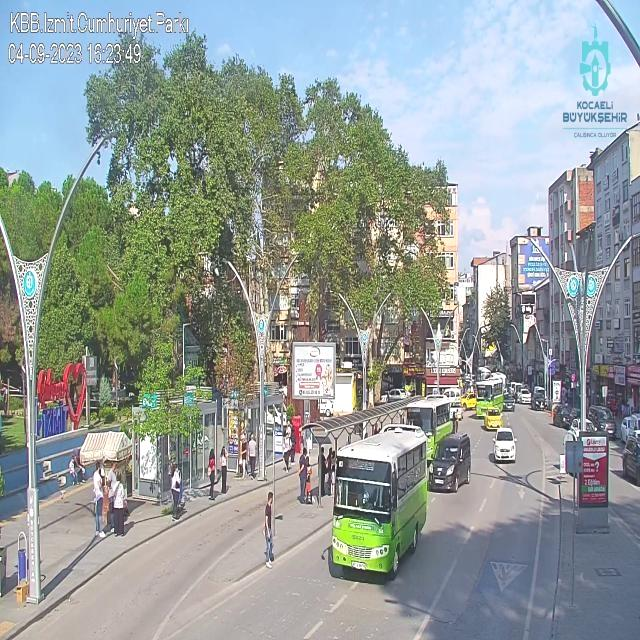Bus: (328, 424, 431, 580), (402, 396, 456, 463), (474, 377, 504, 419)
Car: (490, 427, 518, 463), (552, 404, 574, 428), (483, 407, 503, 430), (530, 392, 548, 410)
Van: (428, 432, 472, 493)
